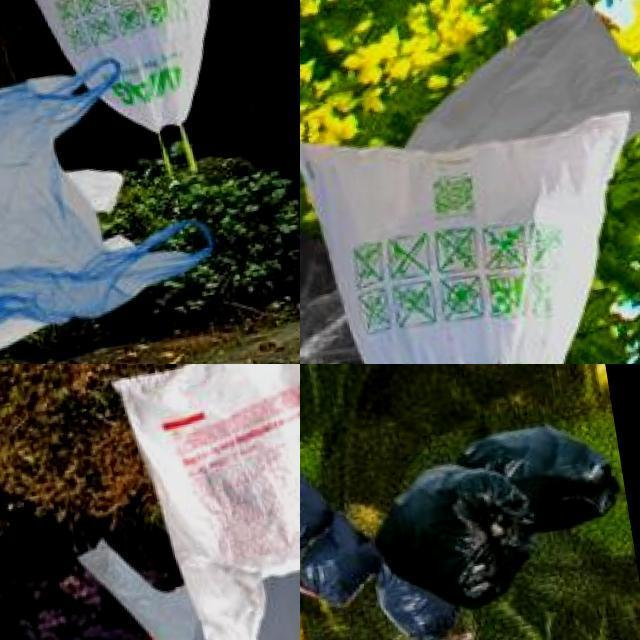waste: (300, 92, 640, 364), (0, 50, 223, 364), (103, 364, 300, 640), (0, 0, 248, 145), (368, 449, 540, 609), (458, 416, 621, 534), (300, 514, 391, 613), (300, 453, 339, 554)
